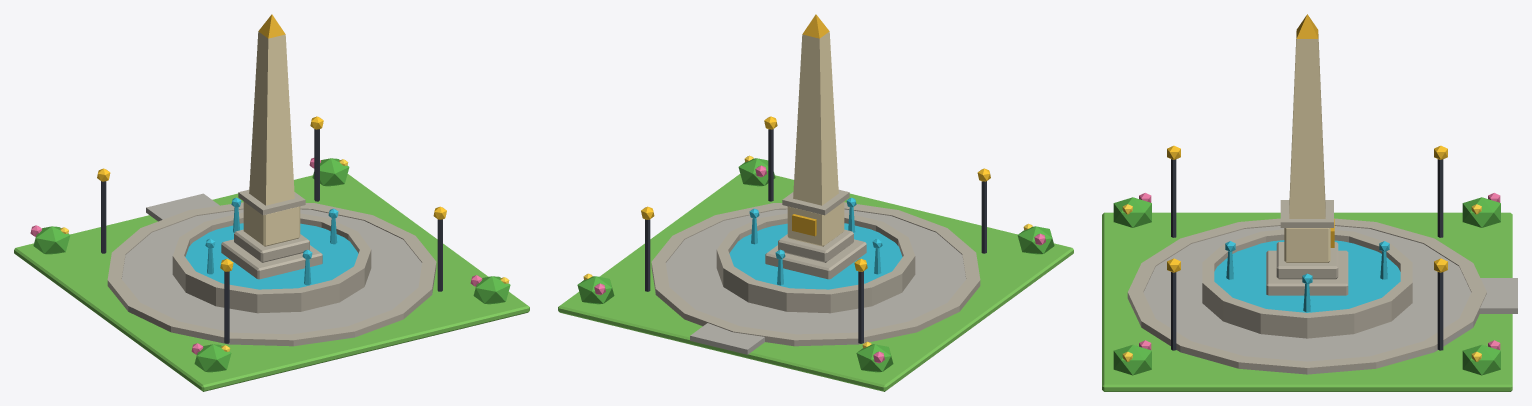
The model's file is monument.glb.
3 views of the same model, side by side, from view 1: azimuth 30°, elevation 25°; view 2: azimuth 150°, elevation 25°; view 3: azimuth 270°, elevation 25° (orthographic). The views are drawn at different scales.
Parts seen in each view (by area): view 1: corpo; view 2: corpo; view 3: corpo.
Boxes of the visible parts, bbox=[...] form: corpo: bbox=[14, 14, 529, 391]; corpo: bbox=[558, 14, 1073, 391]; corpo: bbox=[1102, 14, 1517, 391].
Size of the model in its own units: 4 by 3.14 by 4.05.
